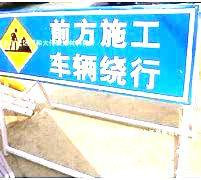sign: (1, 13, 192, 102)
